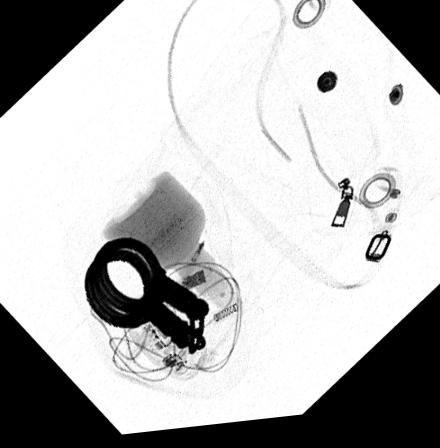HandCuffs: (80, 235, 210, 364)
